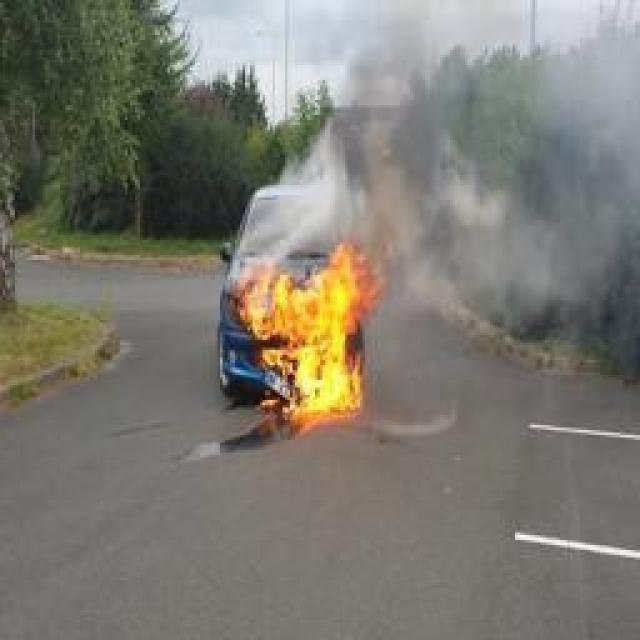Fire: (236, 241, 384, 419)
